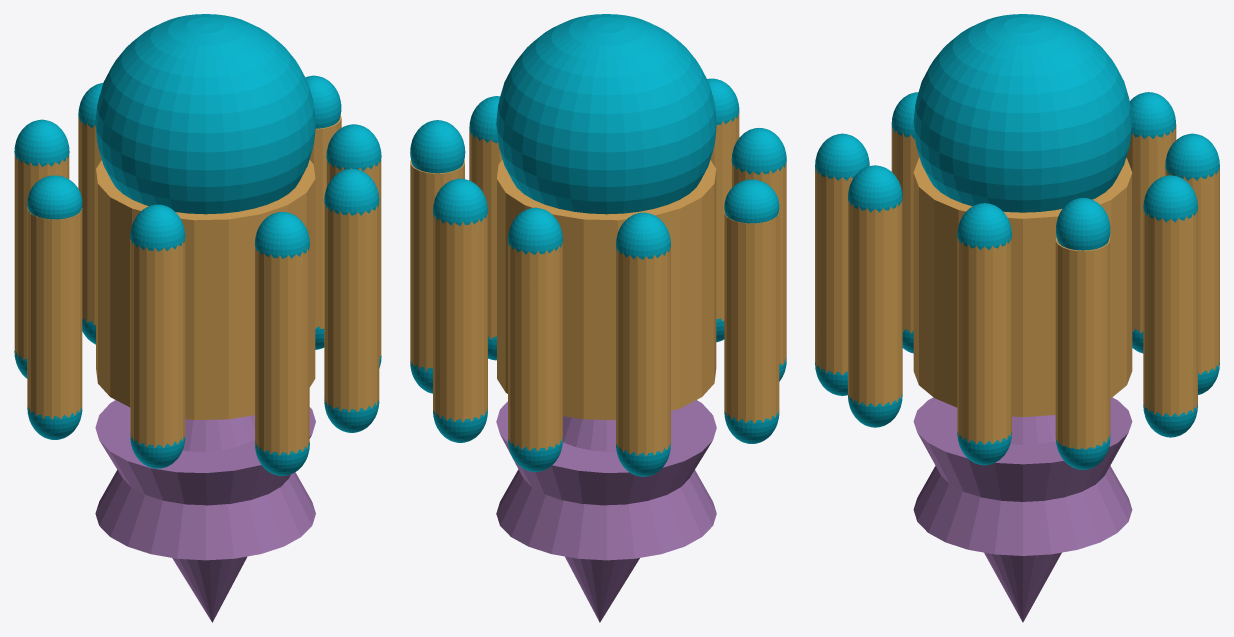
The model's file is ninarocket.glb.
The picture shows the model from 3 angles, left to right: view 1: azimuth 30°, elevation 25°; view 2: azimuth 150°, elevation 25°; view 3: azimuth 270°, elevation 25°; orthographic projection.
Visible parts, largest first — view 1: Mesh_Mesh_head_geo.001_lambert2SG.001; view 2: Mesh_Mesh_head_geo.001_lambert2SG.001; view 3: Mesh_Mesh_head_geo.001_lambert2SG.001.
Boxes of the visible parts, <box> form: Mesh_Mesh_head_geo.001_lambert2SG.001: <box>14,14,381,622</box>; Mesh_Mesh_head_geo.001_lambert2SG.001: <box>410,14,786,622</box>; Mesh_Mesh_head_geo.001_lambert2SG.001: <box>815,14,1219,622</box>.
Bounding box in the file's own units: 35 × 60.09 × 37.
